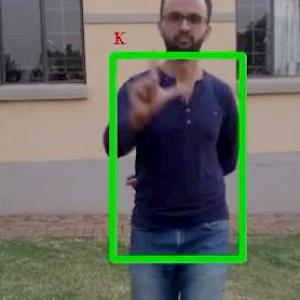land_hand: (122, 40, 183, 124)
